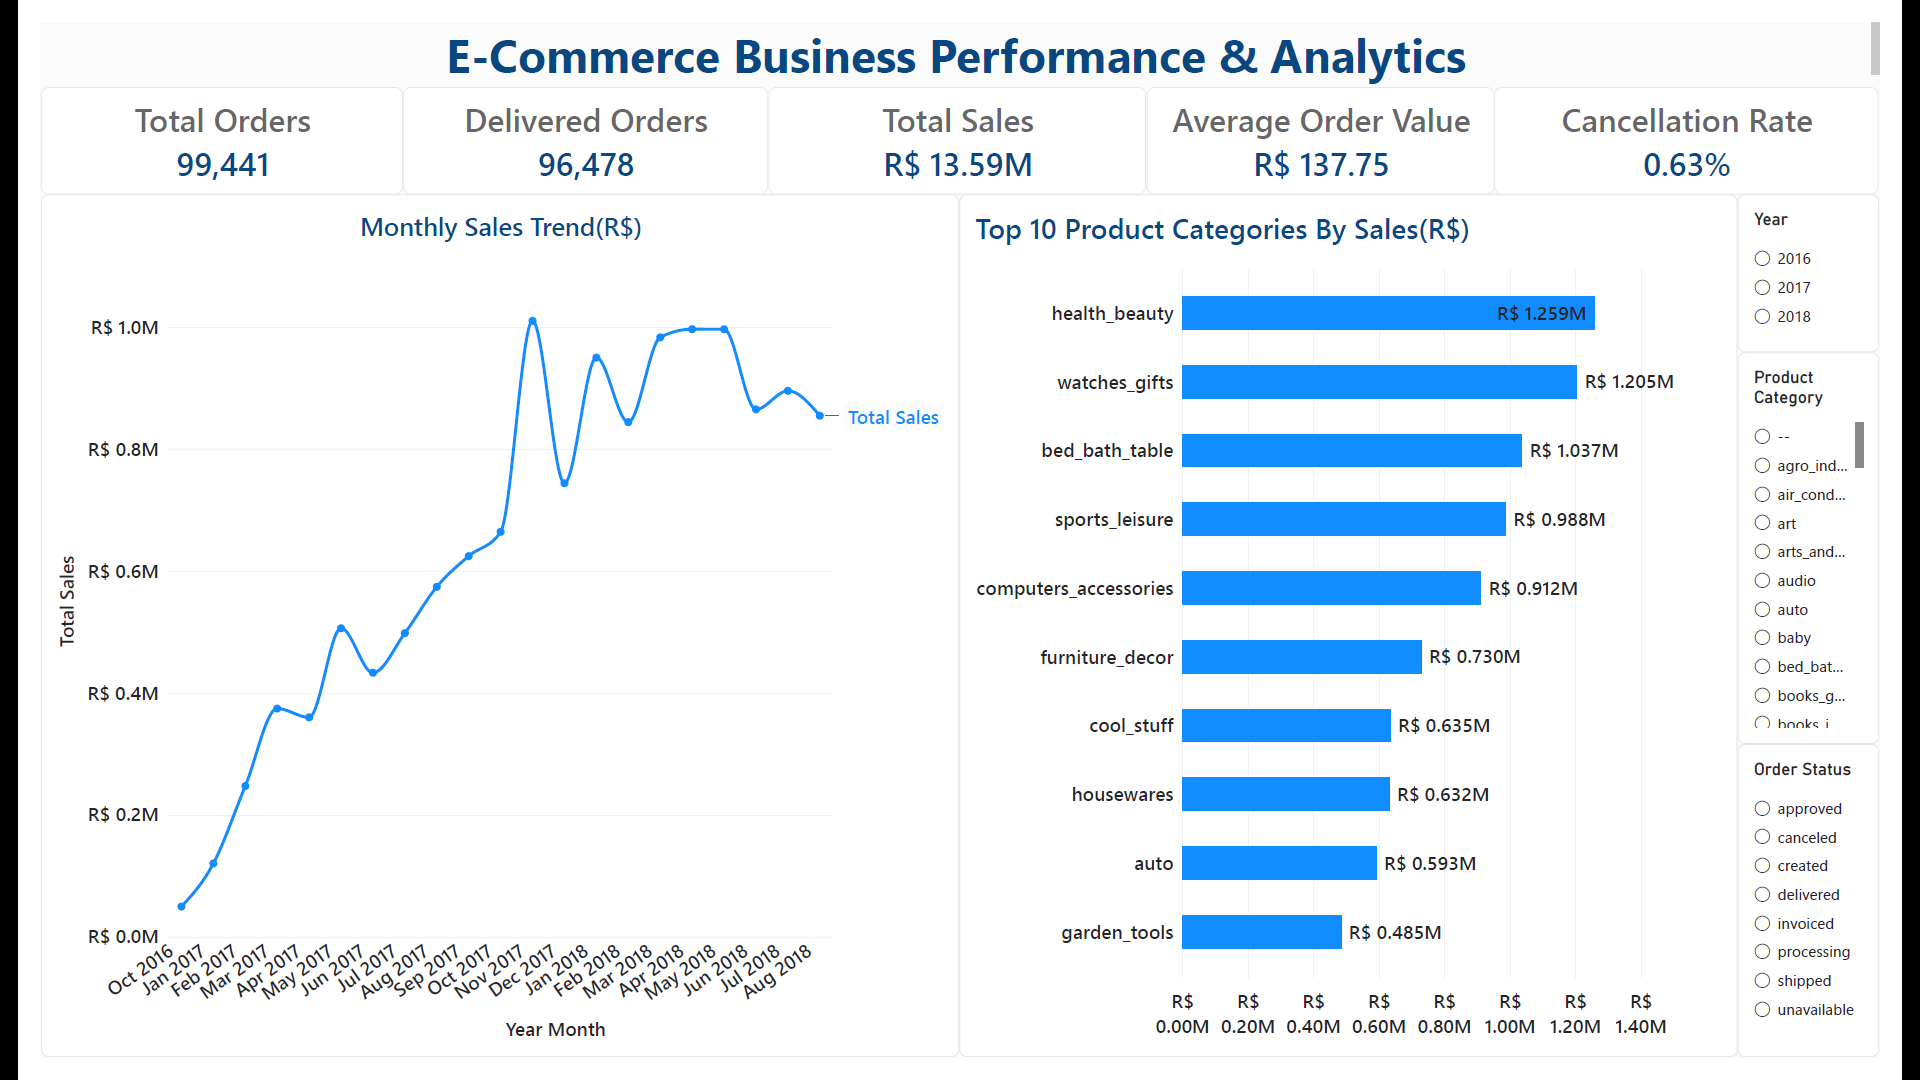

The dashboard page shown, as its layout file describes it:
{"tool":"powerbi","page":{"name":"Business Overview","canvas":[1920,1080],"ordinal":0},"visuals":[{"type":"cardVisual","fields":{"Data":["olist_orders_dataset.Total Orders"]},"box":[0,67,378.2,112.2],"z":0},{"type":"cardVisual","fields":{"Data":["olist_orders_dataset.Delivered Orders"]},"box":[378.2,67,381.8,112.2],"z":1000},{"type":"cardVisual","fields":{"Data":["olist_orders_dataset.Total Sales"]},"box":[760.1,67,394.5,112.2],"z":2000},{"type":"cardVisual","fields":{"Data":["olist_orders_dataset.Average Order Value"]},"box":[1154.6,67,363.7,112.2],"z":3000},{"type":"lineChart","title":"Monthly Sales Trend(R$)","fields":{"Category":["olist_orders_dataset.Year Month"],"Y":["olist_orders_dataset.Total Sales"]},"box":[0,179.2,959.1,901.2],"z":4000},{"type":"clusteredBarChart","title":"Top 10 Product Categories By Sales(R$)","fields":{"Category":["product_category_name_translation.product_category_name_english"],"Y":["olist_orders_dataset.Total Sales"]},"box":[959.1,179.2,812.5,901.2],"z":5000},{"type":"textbox","box":[0,0,1920.1,67],"z":6000},{"type":"cardVisual","fields":{"Data":["olist_orders_dataset.Cancellation Rate"]},"box":[1518.3,67,401.7,112.2],"z":7000},{"type":"listSlicer","fields":{"Values":["olist_orders_dataset.order_purchase_timestamp.Variation.Date Hierarchy.Year"]},"box":[1771.7,179.2,148.4,164.7],"z":8000},{"type":"listSlicer","title":"Product Category","fields":{"Values":["product_category_name_translation.product_category_name_english"]},"box":[1771.7,343.8,148.4,409],"z":9000},{"type":"listSlicer","title":"Order Status","fields":{"Values":["olist_orders_dataset.order_status"]},"box":[1771.7,752.8,148.4,327.5],"z":10000}]}

Visuals, with their boxes in screenshot pixels (x1, y1, x2, y2), scaled from the page's 1920x1080 canvas onto the 1920x1080 screenshot:
cardVisual - olist_orders_dataset.Total Orders: 0 67 378 179
cardVisual - olist_orders_dataset.Delivered Orders: 378 67 760 179
cardVisual - olist_orders_dataset.Total Sales: 760 67 1155 179
cardVisual - olist_orders_dataset.Average Order Value: 1155 67 1518 179
"Monthly Sales Trend(R$)" lineChart: 0 179 959 1079
"Top 10 Product Categories By Sales(R$)" clusteredBarChart: 959 179 1772 1079
textbox: 0 0 1919 67
cardVisual - olist_orders_dataset.Cancellation Rate: 1518 67 1919 179
listSlicer - olist_orders_dataset.order_purchase_timestamp.Variation.Date Hierarchy.Year: 1772 179 1919 344
"Product Category" listSlicer: 1772 344 1919 753
"Order Status" listSlicer: 1772 753 1919 1079
